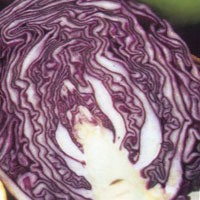cabbage: (2, 2, 197, 199)
